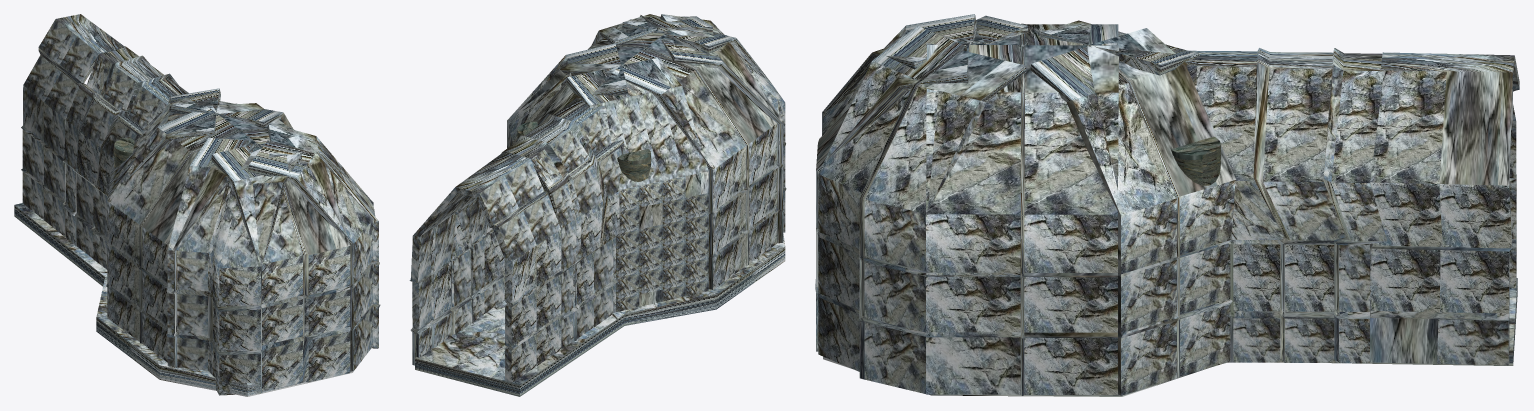
The model's file is smallRoom.fbx.
3 renders of one model, left to right at view 1: azimuth 30°, elevation 25°; view 2: azimuth 150°, elevation 25°; view 3: azimuth 270°, elevation 25°, orthographic. The views are drawn at different scales.
Parts seen in each view (by area): view 1: polySurface35, pCylinder2, pCylinder6; view 2: polySurface35, pCylinder2, pCylinder6; view 3: polySurface35, pCylinder5, pCylinder2.
Boxes of the visible parts, bbox=[...] form: polySurface35: bbox=[21, 14, 380, 395]; pCylinder2: bbox=[14, 203, 353, 396]; pCylinder6: bbox=[114, 137, 134, 166]; polySurface35: bbox=[409, 14, 786, 382]; pCylinder2: bbox=[415, 234, 785, 396]; pCylinder6: bbox=[617, 149, 650, 181]; polySurface35: bbox=[815, 14, 1519, 395]; pCylinder5: bbox=[1171, 136, 1220, 185]; pCylinder2: bbox=[823, 278, 1517, 396].
Size of the model in its own units: 146 by 136 by 296.
Materials: 3 (3 with a texture image).
